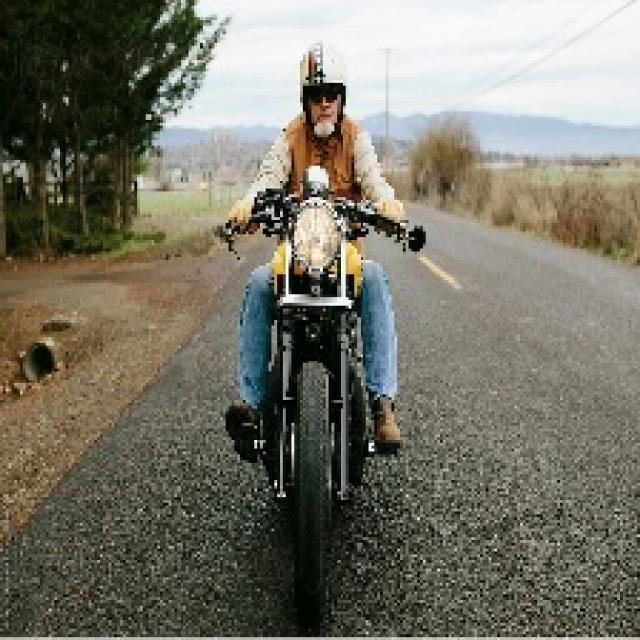bike: (262, 200, 378, 612)
